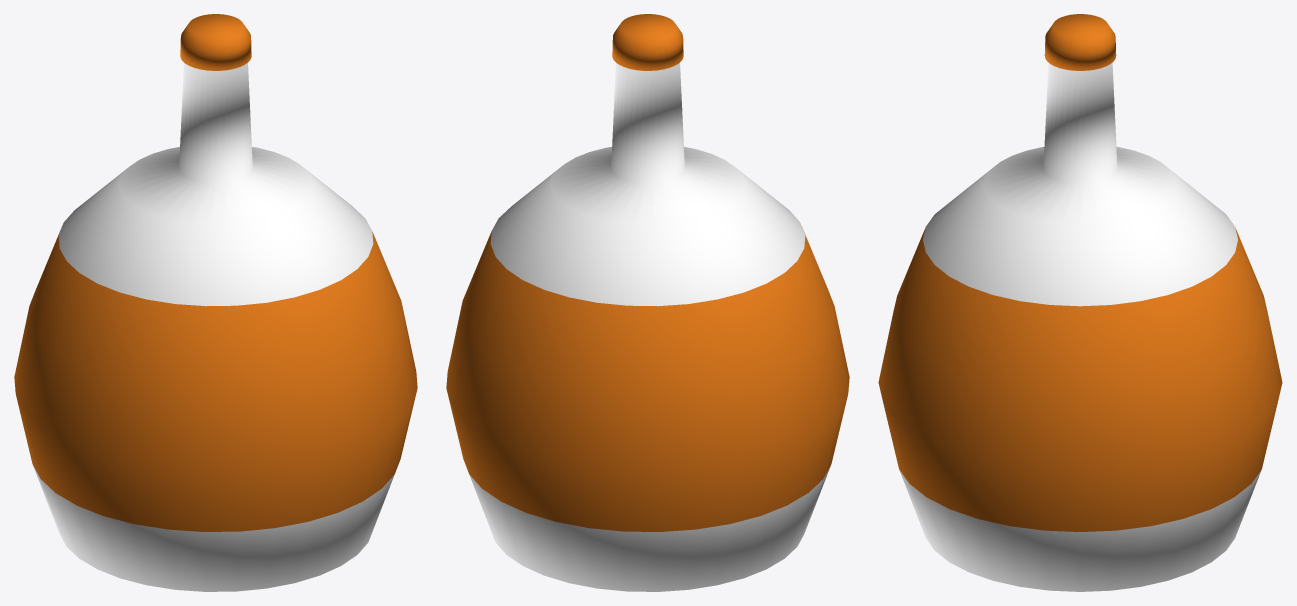
File: potion2.fbx
3 renders of one model, left to right at view 1: azimuth 30°, elevation 25°; view 2: azimuth 150°, elevation 25°; view 3: azimuth 270°, elevation 25°, orthographic.
Parts seen in each view (by area): view 1: Cube; view 2: Cube; view 3: Cube.
Boxes of the visible parts, bbox=[...] form: Cube: bbox=[14, 14, 417, 591]; Cube: bbox=[446, 14, 849, 591]; Cube: bbox=[878, 14, 1282, 591].
Size of the model in its own units: 256 by 350 by 256.
